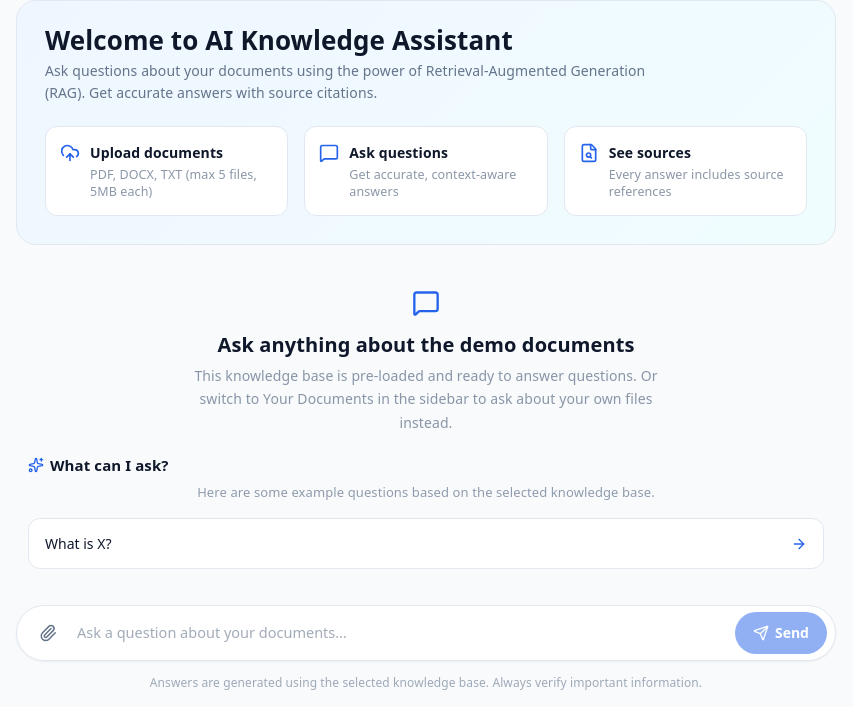
Test case: ChatPanel › clicking a front-screen suggested-question card sends it through the real chat API
What coordinates should you click on to do the following:
click the button "What is X?"
I would click on:
 (78, 544)
Its box is [28, 518, 824, 569].
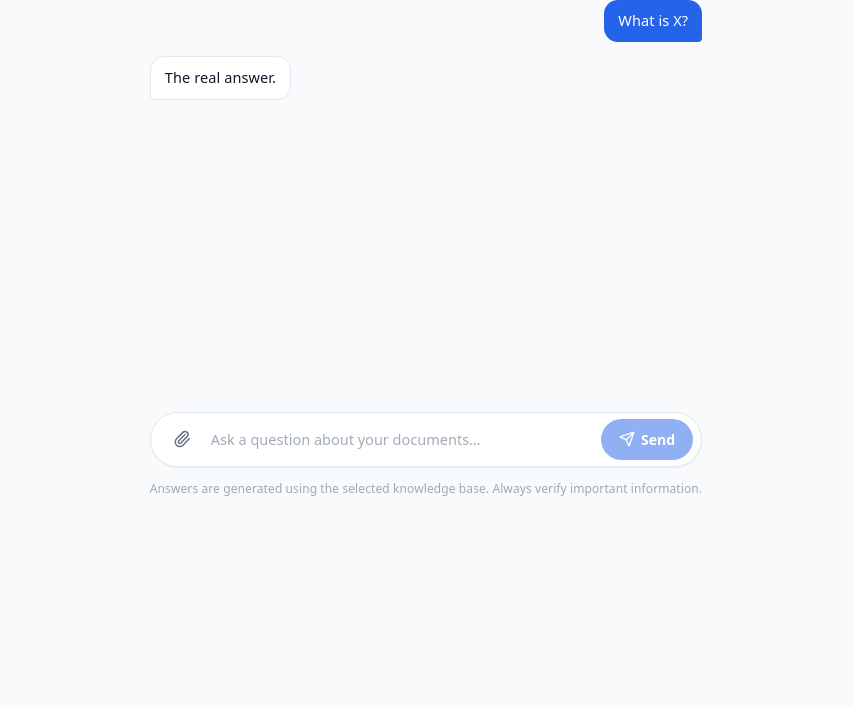
Expected: the text "The real answer." is shown, [165, 67, 276, 89]
